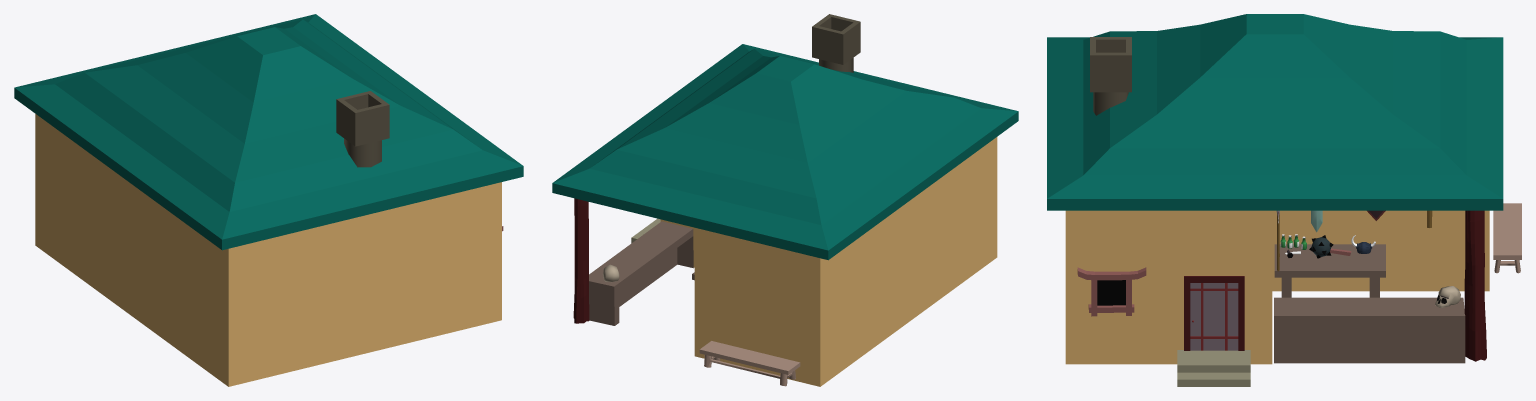
The model's file is casa_armaiolo.glb.
3 views of the same model, side by side, from view 1: azimuth 30°, elevation 25°; view 2: azimuth 150°, elevation 25°; view 3: azimuth 270°, elevation 25° (orthographic). The views are drawn at different scales.
Visible parts, largest first — view 1: Cube.003, Cube, pipe; view 2: Cube.003, Cube, Cube.002, pipe, bench, Cube.076; view 3: Cube.003, Cube, Cube.002, Cube.001, Cube.076, pipe, Cube.081, Cube.079, Cube.087, bench, Cube.077, Cube.080 (+1 smaller).
Part boxes in pixels (x1,y1,x2,y2): Cube.003: (14,14,523,250); Cube: (35,114,501,386); pipe: (336,91,389,167); Cube.003: (552,44,1018,260); Cube: (660,137,997,386); Cube.002: (589,221,693,325); pipe: (812,14,860,72); bench: (699,341,800,386); Cube.076: (573,198,589,323); Cube.003: (1047,14,1503,210); Cube: (1065,210,1489,364); Cube.002: (1274,297,1465,363); Cube.001: (1274,244,1385,297); Cube.076: (1464,210,1486,361); pipe: (1090,37,1131,115); Cube.081: (1190,283,1238,350); Cube.079: (1177,350,1250,386); Cube.087: (1077,267,1146,316); bench: (1493,203,1521,273); Cube.077: (1184,276,1190,350); Cube.080: (1238,276,1244,350).
Bounding box in the file's own units: 4.81 × 3.38 × 5.46.
19 materials, 8 textured.
